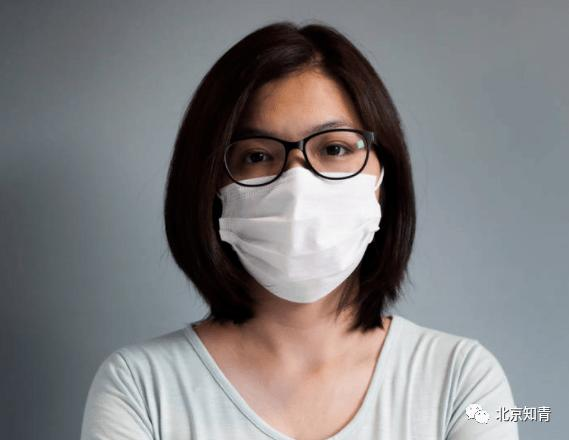mask: (213, 56, 398, 305)
